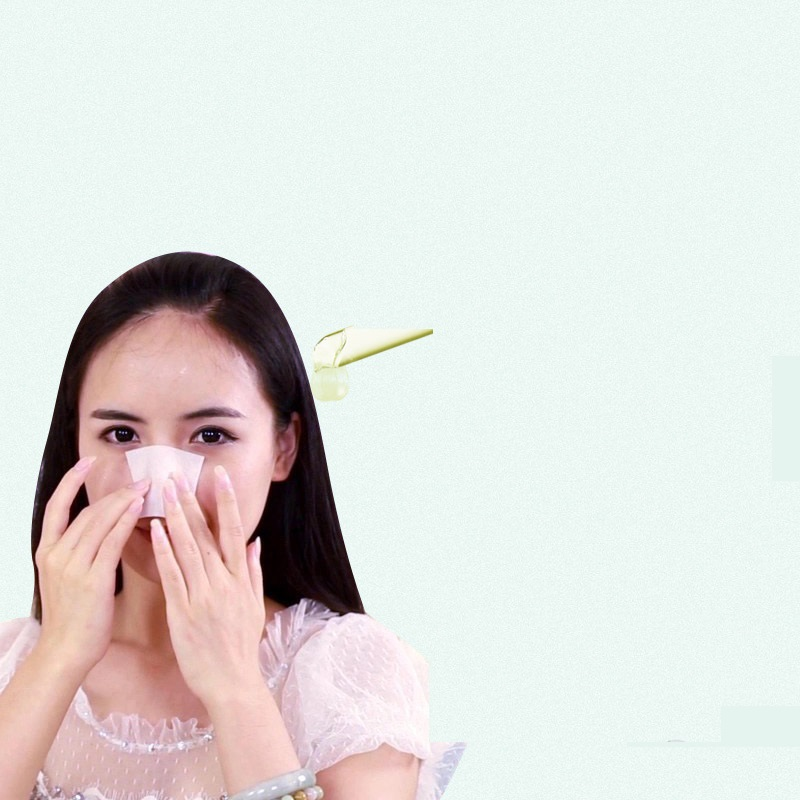face: (72, 318, 272, 589)
